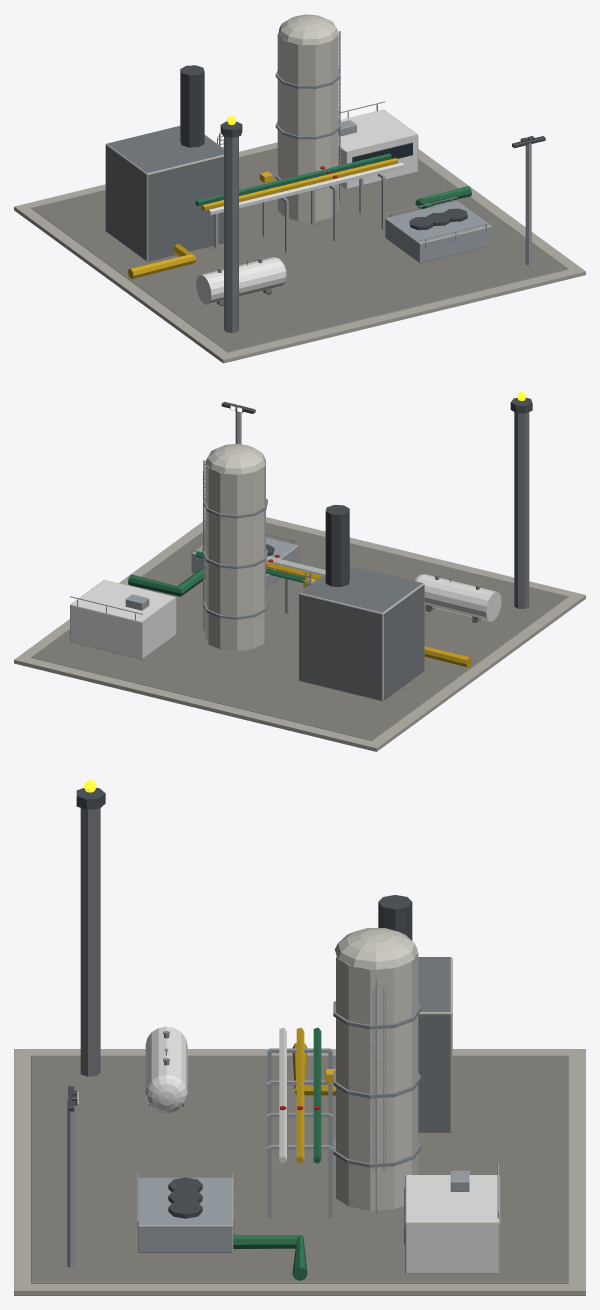
The model's file is gam_refinery.glb.
3 renders of one model, top to bottom at view 1: azimuth 30°, elevation 25°; view 2: azimuth 150°, elevation 25°; view 3: azimuth 270°, elevation 25°, orthographic. The views are drawn at different scales.
Visible parts, largest first — view 1: gam_refinery; view 2: gam_refinery; view 3: gam_refinery.
Boxes of the visible parts, x1,y1,x2,y2 form: gam_refinery: [14, 14, 585, 363]; gam_refinery: [14, 392, 585, 751]; gam_refinery: [14, 780, 585, 1295].
Bounding box in the file's own units: 30 × 17.25 × 30.
